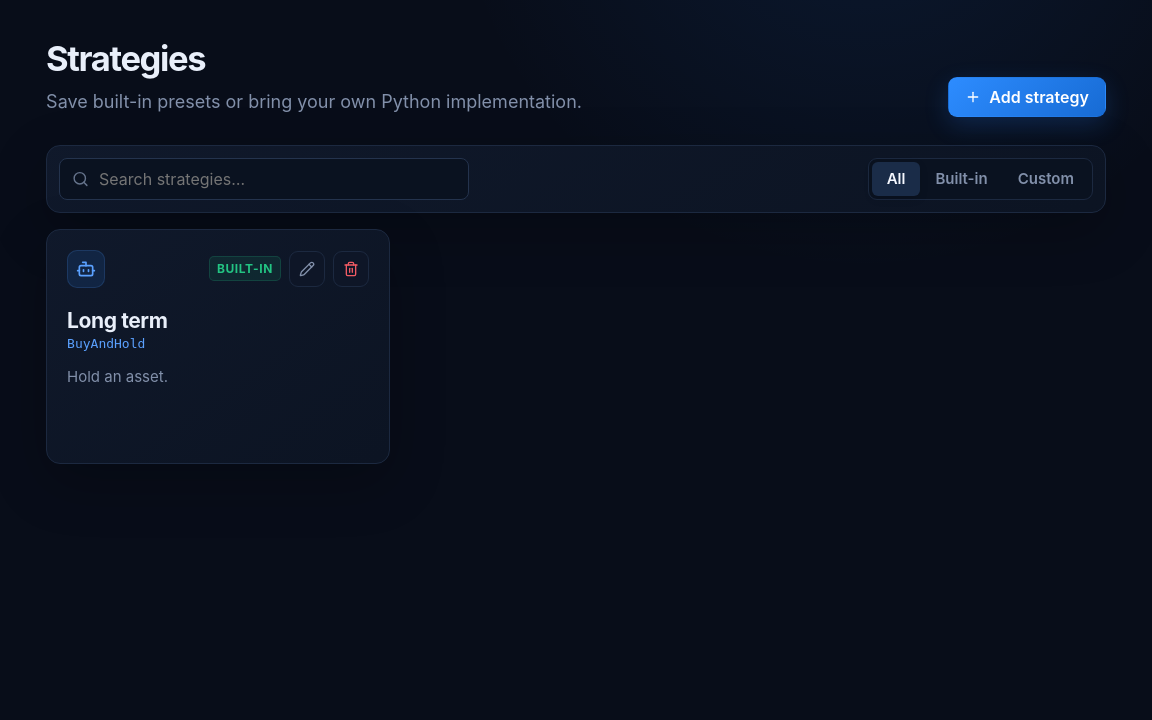
Test: library page › uses the selected built-in strategies class name as the default asset name
The width and height of the screenshot is (1152, 720).
Click the button "Add strategy": (1027, 97) top-left (948, 77), bottom-right (1106, 117)
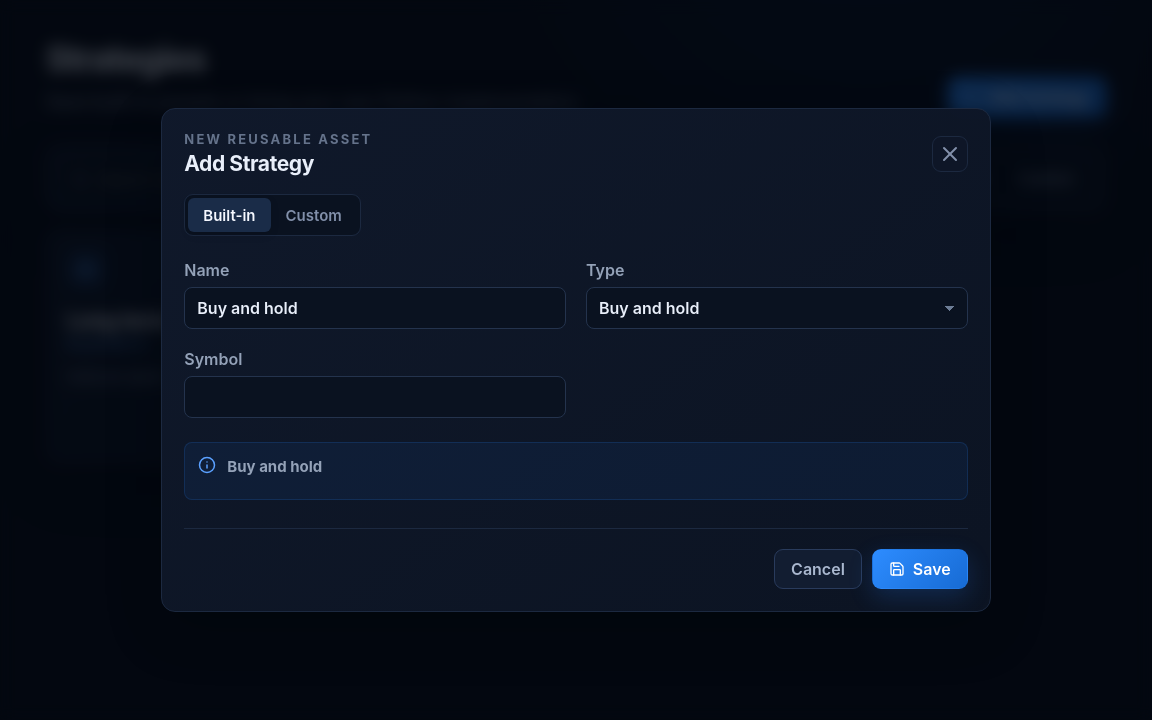
Now the field labelled "Name" holds "Buy and hold", box top-left (184, 287), bottom-right (566, 329)
